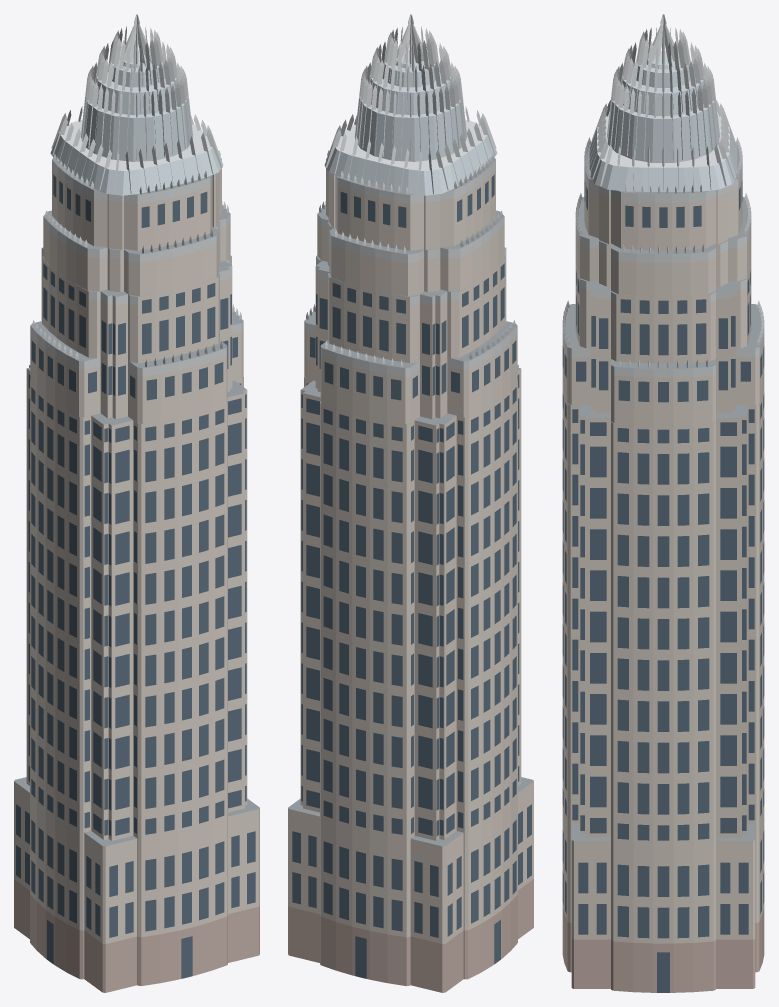
File: bank-of-america-corporate-center.glb
The picture shows the model from 3 angles, left to right: view 1: azimuth 30°, elevation 25°; view 2: azimuth 150°, elevation 25°; view 3: azimuth 270°, elevation 25°; orthographic projection.
Visible parts, largest first — view 1: Bank of America Corporate Center; view 2: Bank of America Corporate Center; view 3: Bank of America Corporate Center.
Boxes of the visible parts, x1,y1,x2,y2 form: Bank of America Corporate Center: [14, 14, 259, 992]; Bank of America Corporate Center: [288, 14, 533, 992]; Bank of America Corporate Center: [562, 14, 764, 992].
Size of the model in its own units: 51.98 by 266 by 51.98.
